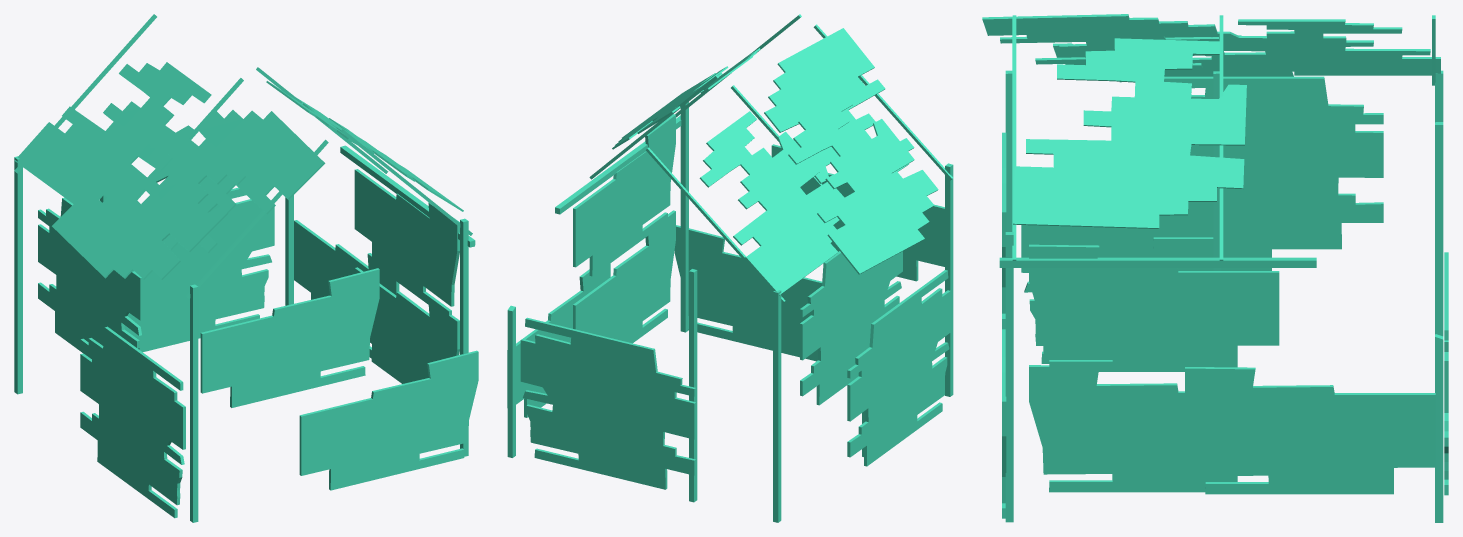
The model's file is SubUrb1Ruined_Collision.fbx.
The picture shows the model from 3 angles, left to right: view 1: azimuth 30°, elevation 25°; view 2: azimuth 150°, elevation 25°; view 3: azimuth 270°, elevation 25°; orthographic projection. The views are drawn at different scales.
Parts seen in each view (by area): view 1: SubUrb1Ruined_Collision; view 2: SubUrb1Ruined_Collision; view 3: SubUrb1Ruined_Collision.
Part boxes in pixels (x1,y1,x2,y2): SubUrb1Ruined_Collision: (14,14,478,522); SubUrb1Ruined_Collision: (507,14,953,522); SubUrb1Ruined_Collision: (982,14,1448,522).
Size of the model in its own units: 7.77 by 8.47 by 8.17.
